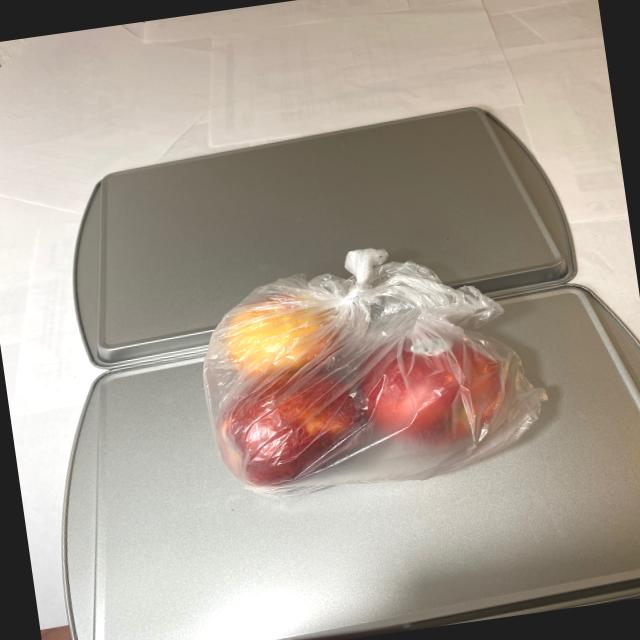apple: (197, 254, 536, 499)
